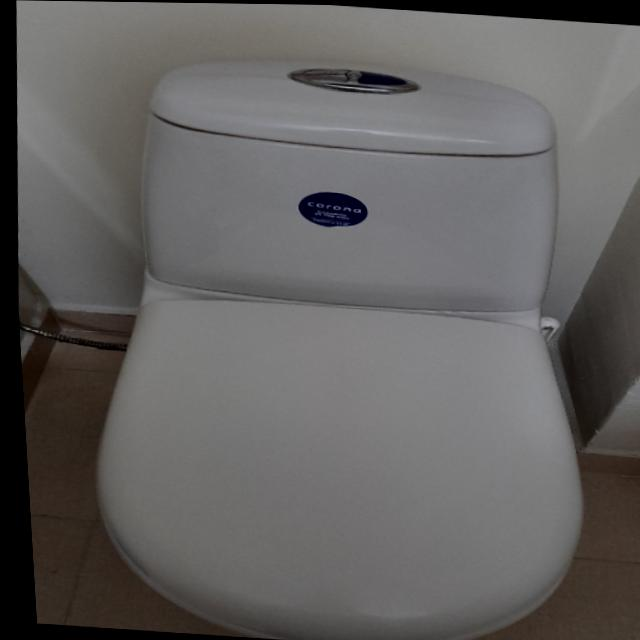toilet: (60, 45, 607, 640)
